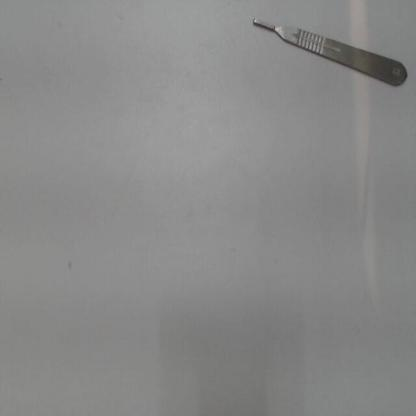No.3 BP Handle: (249, 9, 409, 99)
